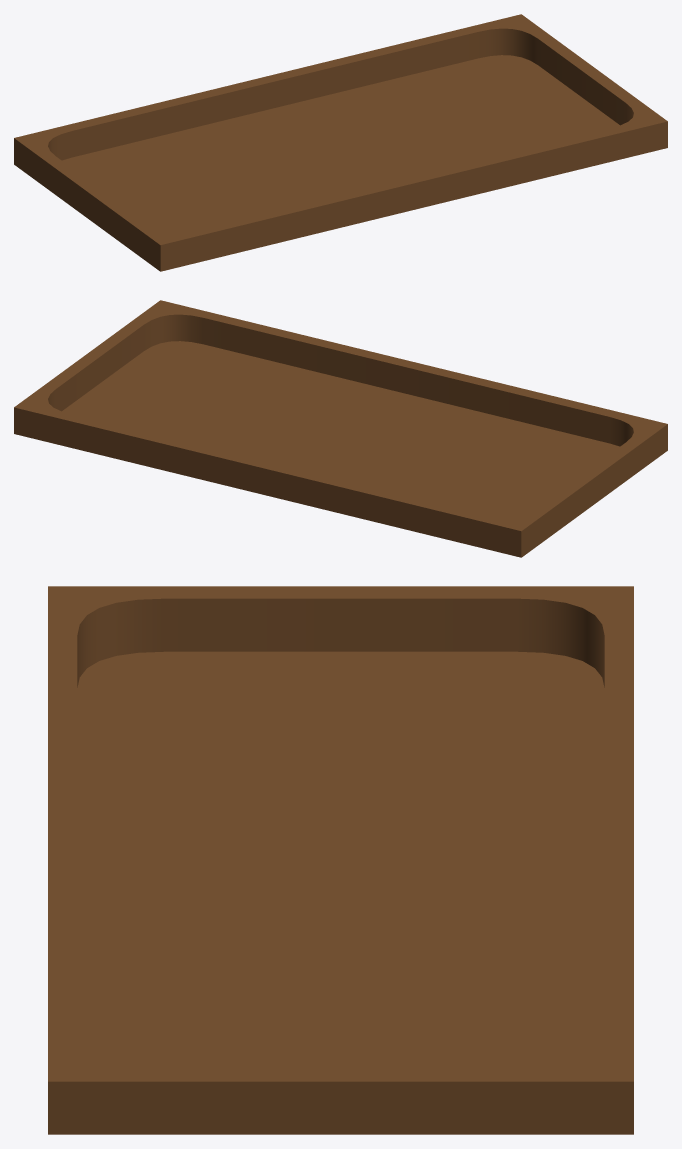
File: Ceiling_B_2x1m_B.FBX
3 renders of one model, top to bottom at view 1: azimuth 30°, elevation 25°; view 2: azimuth 150°, elevation 25°; view 3: azimuth 270°, elevation 25°, orthographic. The views are drawn at different scales.
Parts seen in each view (by area): view 1: Ceiling_B_2x1m_B; view 2: Ceiling_B_2x1m_B; view 3: Ceiling_B_2x1m_B.
Part boxes in pixels (x1=…): Ceiling_B_2x1m_B: x1=14, y1=14, x2=667, y2=271; Ceiling_B_2x1m_B: x1=14, y1=300, x2=667, y2=557; Ceiling_B_2x1m_B: x1=48, y1=586, x2=633, y2=1134.
Size of the model in its own units: 200 by 10 by 100.
